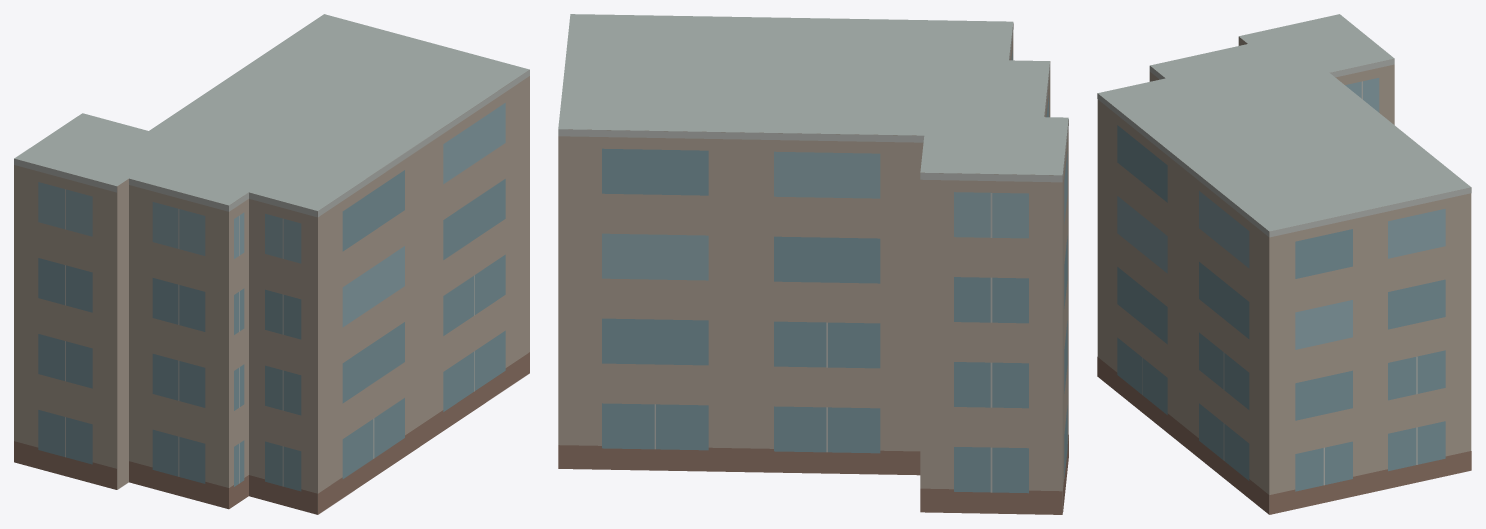
File: survey-upis-32584649.glb
3 views of the same model, side by side, from view 1: azimuth 30°, elevation 25°; view 2: azimuth 150°, elevation 25°; view 3: azimuth 270°, elevation 25° (orthographic). The views are drawn at different scales.
Visible parts, largest first — view 1: survey-upis-32584649.tmp; view 2: survey-upis-32584649.tmp; view 3: survey-upis-32584649.tmp.
Boxes of the visible parts, x1,y1,x2,y2 form: survey-upis-32584649.tmp: (14, 14, 529, 514); survey-upis-32584649.tmp: (558, 14, 1068, 514); survey-upis-32584649.tmp: (1097, 14, 1471, 514).
Size of the model in its own units: 19.28 by 11.7 by 14.
